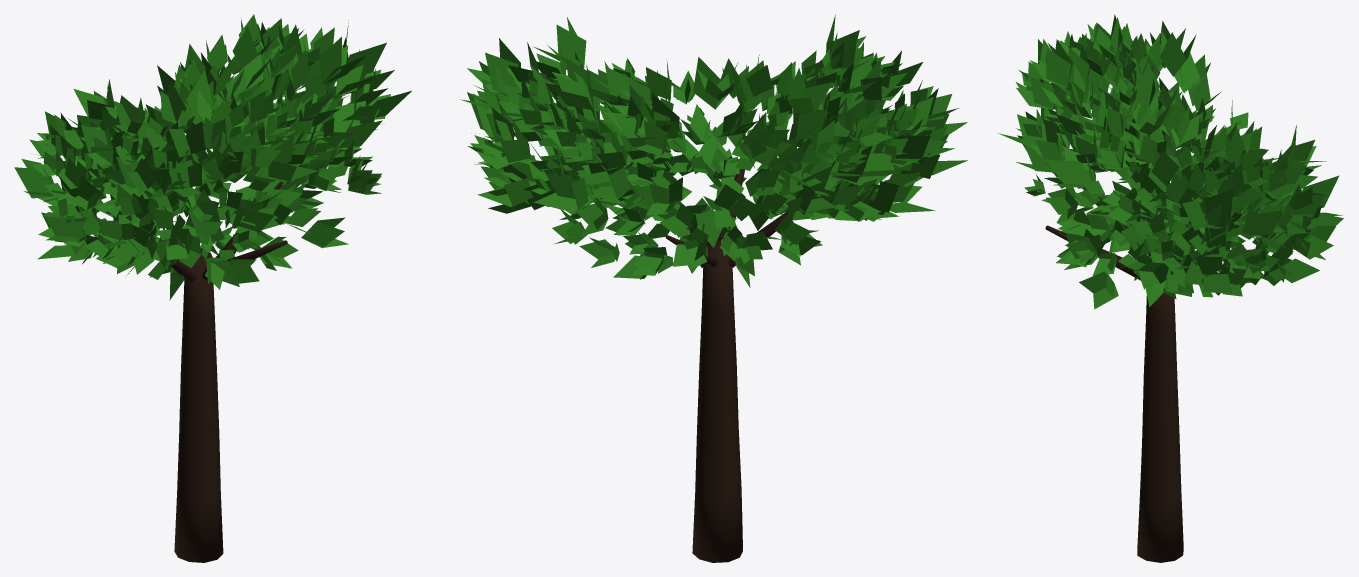
Rendered from Tree_05_C_LOD0.obj.
3 views of the same model, side by side, from view 1: azimuth 30°, elevation 25°; view 2: azimuth 150°, elevation 25°; view 3: azimuth 270°, elevation 25° (orthographic). The views are drawn at different scales.
Parts seen in each view (by area): view 1: Leaves, Trunk; view 2: Leaves, Trunk; view 3: Leaves, Trunk.
Part boxes in pixels (x1,y1,x2,y2): Leaves: (14, 14, 411, 300); Trunk: (166, 181, 287, 562); Leaves: (461, 15, 967, 287); Trunk: (665, 169, 788, 562); Leaves: (998, 14, 1343, 309); Trunk: (1045, 225, 1183, 562).
Size of the model in its own units: 4.53 by 5.04 by 3.25.
